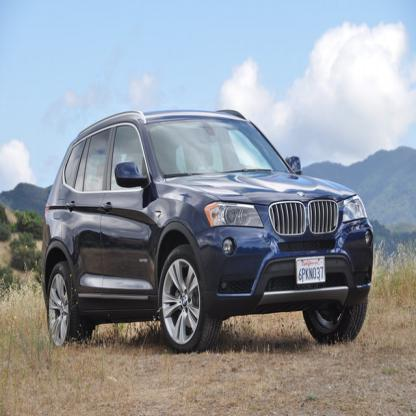Vehicle: (41, 109, 374, 356)
